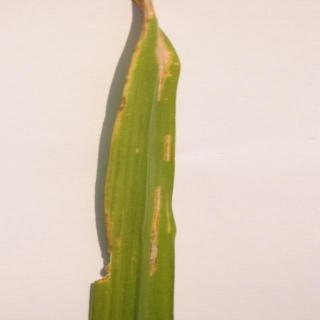Hawar-Daun: (92, 176, 127, 295), (137, 179, 176, 284), (139, 28, 187, 106), (124, 0, 149, 83), (153, 119, 179, 174)
